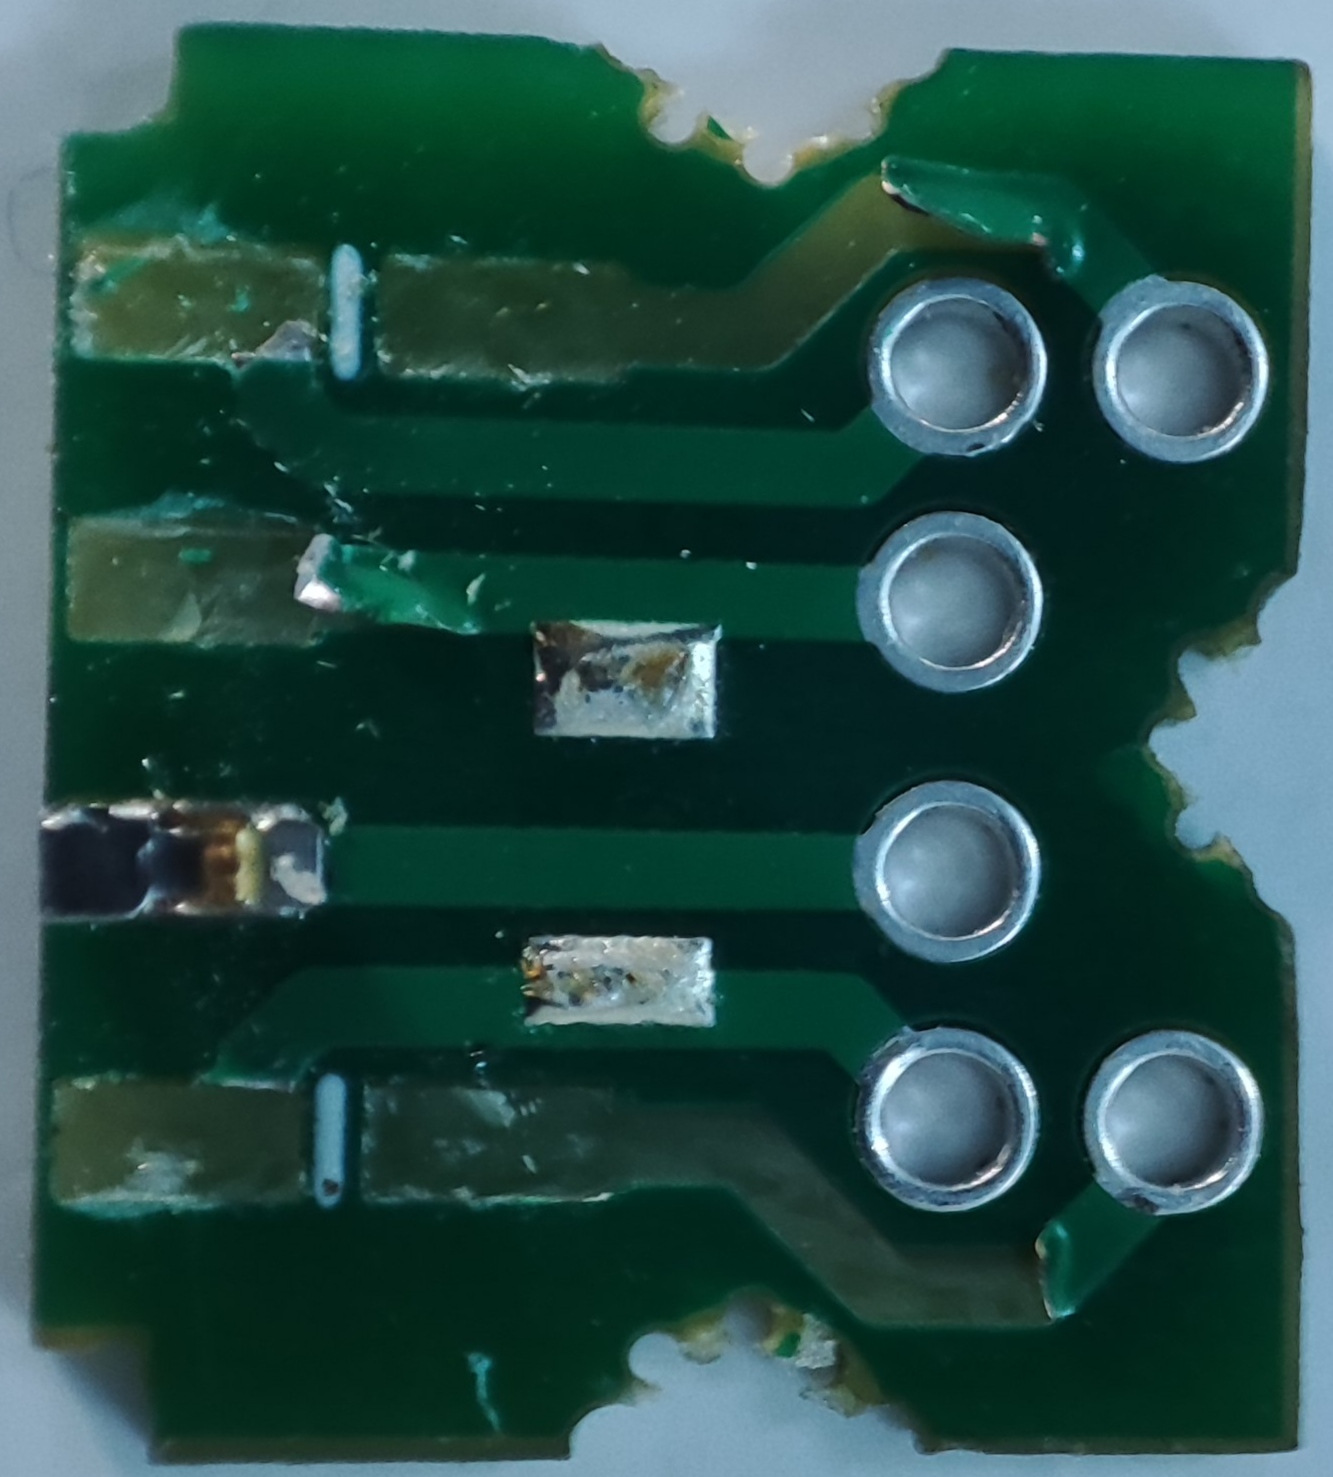PCB-MODEL-0: (21, 9, 1320, 1465)
defected-spring_finger: (40, 1054, 363, 1247), (63, 488, 381, 670), (66, 226, 374, 383)
normal-spring_finger: (31, 791, 363, 949)
normal-through: (850, 763, 1047, 980), (858, 261, 1058, 475), (1067, 1022, 1267, 1233), (845, 1011, 1041, 1222), (1081, 275, 1267, 472), (858, 502, 1043, 699)
